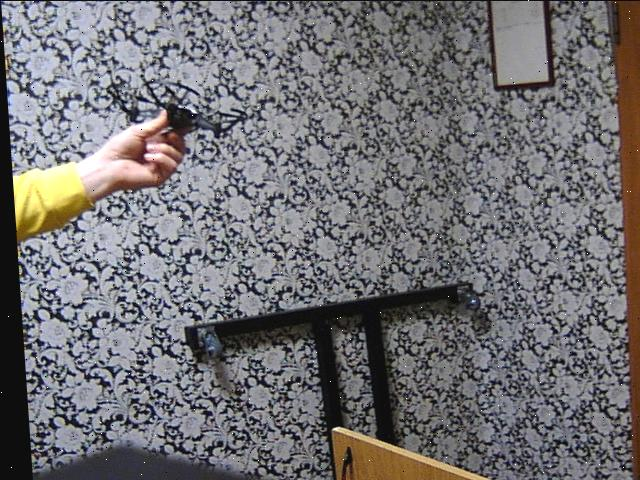drone: (101, 68, 247, 144)
